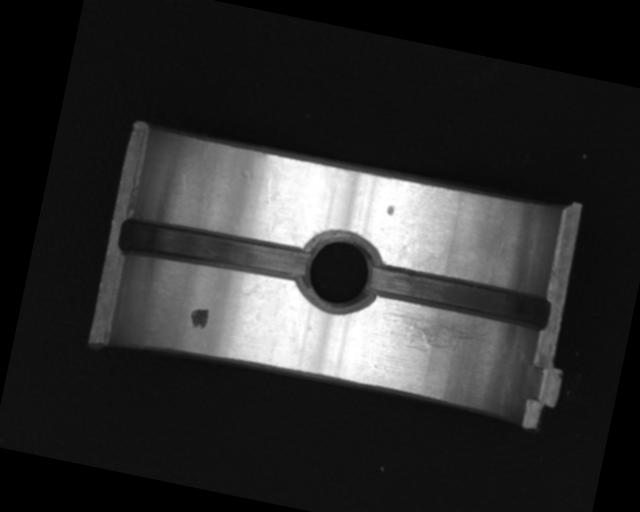blot: (188, 304, 211, 330)
bruise: (385, 203, 396, 216)
gap: (118, 212, 314, 289), (366, 260, 552, 332)
hole: (298, 226, 385, 320)
nick: (255, 178, 284, 243)
scratch: (376, 304, 495, 364)
